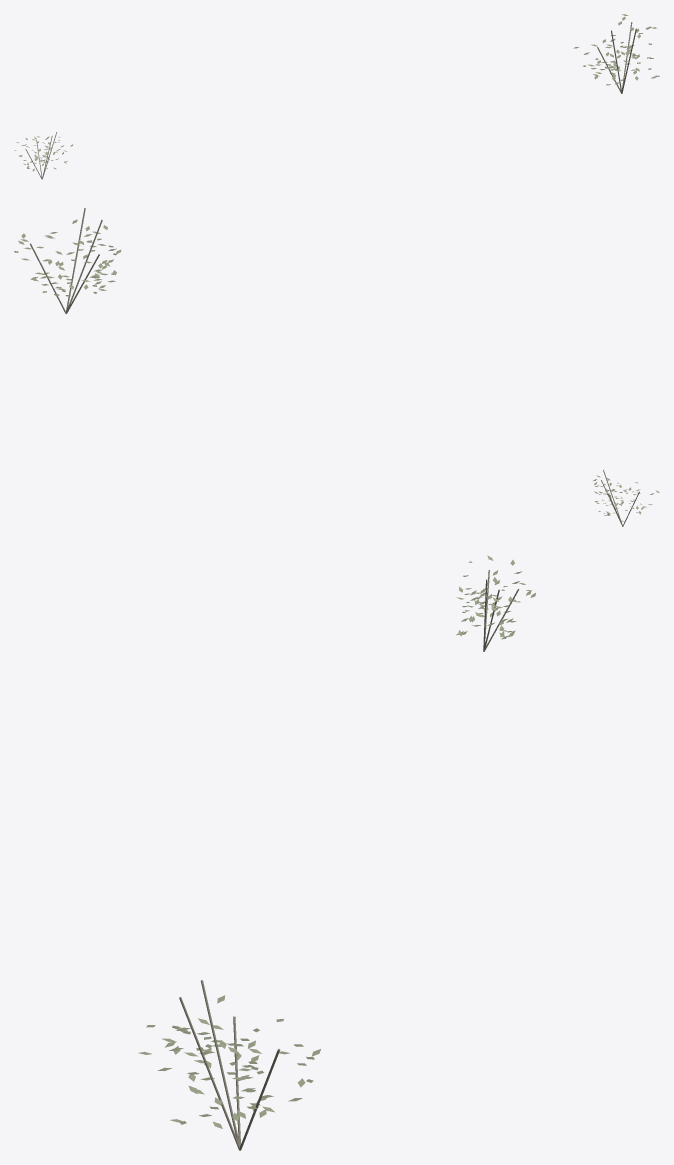
File: AE_Shrubs_-1_-1.fbx
The picture shows the model from 3 angles, top to bottom: view 1: azimuth 30°, elevation 25°; view 2: azimuth 150°, elevation 25°; view 3: azimuth 270°, elevation 25°; orthographic projection. The views are drawn at different scales.
Visible parts, largest first — view 1: AE_Shrubs_-1_-1_LOD0; view 2: AE_Shrubs_-1_-1_LOD0; view 3: AE_Shrubs_-1_-1_LOD0.
Part boxes in pixels (bbox=[...]): AE_Shrubs_-1_-1_LOD0: bbox=[14, 14, 659, 179]; AE_Shrubs_-1_-1_LOD0: bbox=[14, 208, 659, 526]; AE_Shrubs_-1_-1_LOD0: bbox=[138, 555, 535, 1150].
Size of what is drawn, in the model's own units: 1363 by 179 by 405.
